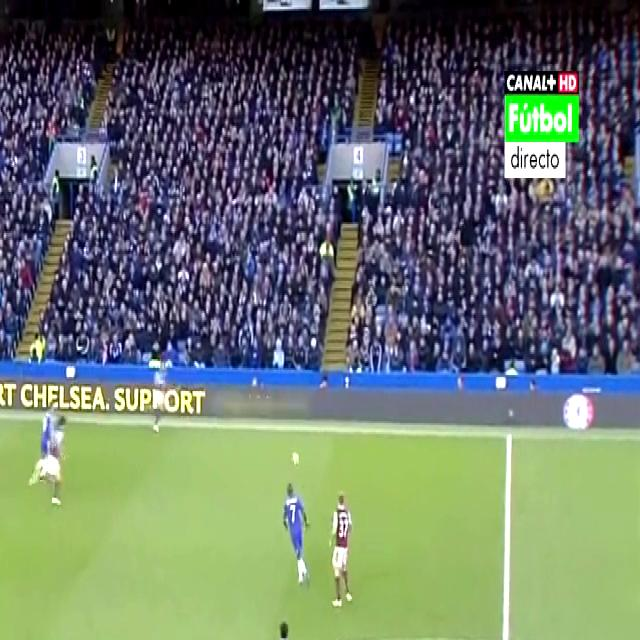ball: (288, 450, 302, 478), (290, 445, 302, 470)
soccer-player: (26, 400, 76, 514), (325, 481, 363, 621), (280, 474, 320, 598), (254, 606, 303, 640)
